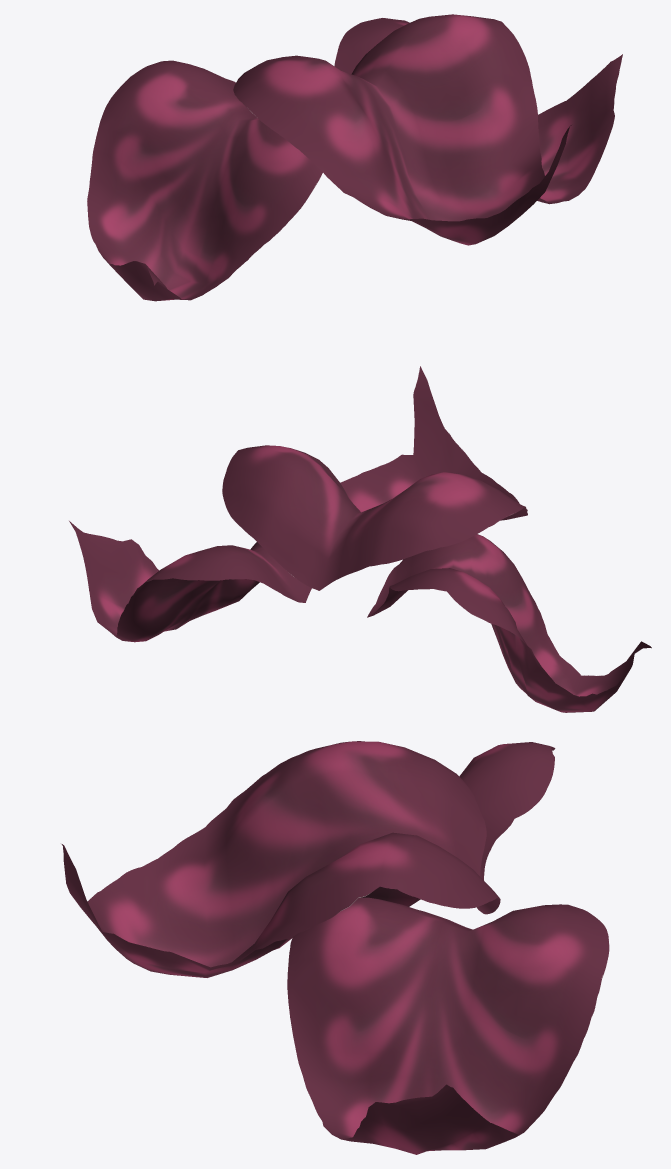
File: StrangeLeafCluster.fbx
The picture shows the model from 3 angles, top to bottom: view 1: azimuth 30°, elevation 25°; view 2: azimuth 150°, elevation 25°; view 3: azimuth 270°, elevation 25°; orthographic projection. The views are drawn at different scales.
Visible parts, largest first — view 1: polySurface67, polySurface68, polySurface69; view 2: polySurface67, polySurface68, polySurface69; view 3: polySurface69, polySurface67, polySurface68.
Part boxes in pixels (left/top/right/bottom): polySurface67: left=233, top=14, right=572, bottom=245; polySurface68: left=87, top=60, right=322, bottom=301; polySurface69: left=334, top=18, right=622, bottom=204; polySurface67: left=222, top=366, right=527, bottom=590; polySurface68: left=367, top=534, right=651, bottom=712; polySurface69: left=69, top=521, right=311, bottom=642; polySurface69: left=287, top=897, right=609, bottom=1154; polySurface67: left=61, top=741, right=500, bottom=977; polySurface68: left=361, top=742, right=555, bottom=906.
Bounding box in the file's own units: 189 × 58.19 × 137.
